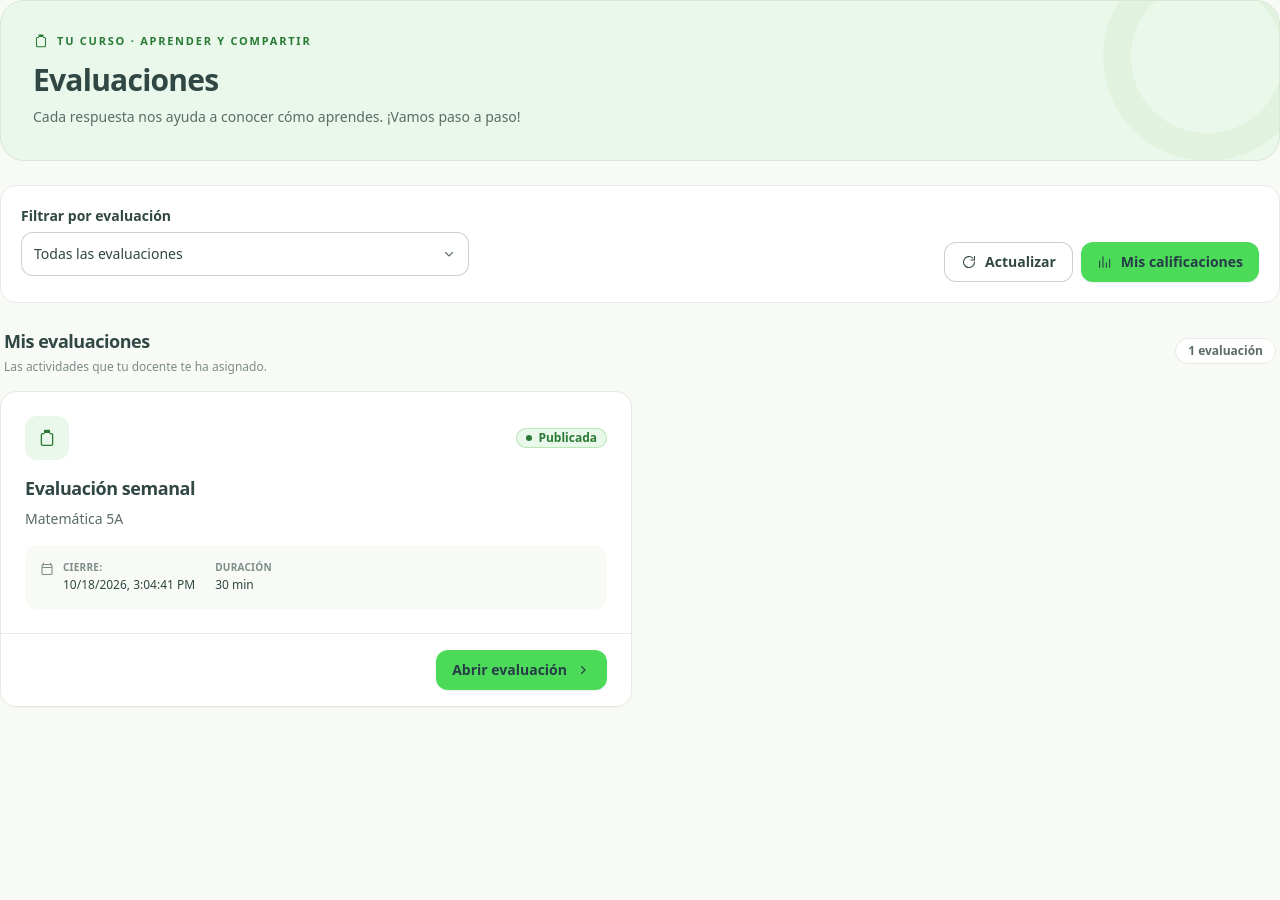
Test: AssessmentsPage estudiante › muestra completada al reabrir una evaluación ya enviada
The image size is (1280, 900).
Expected: the heading "Evaluación semanal" is shown, [25,476,195,500]
Click the button "Abrir evaluación": point(522, 670) [436,650,607,690]
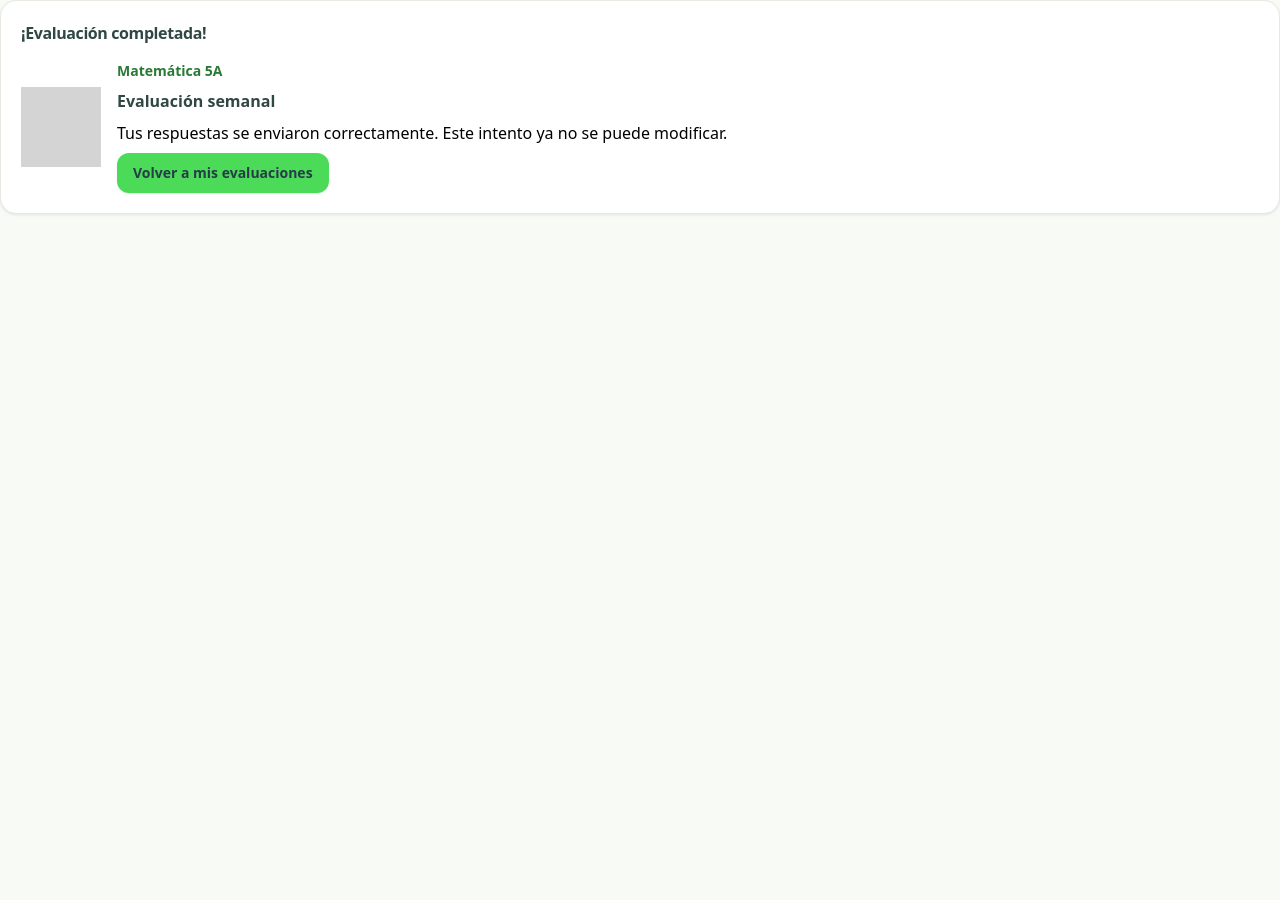
Expected: the heading "¡Evaluación completada!" is shown, [21,21,206,45]
